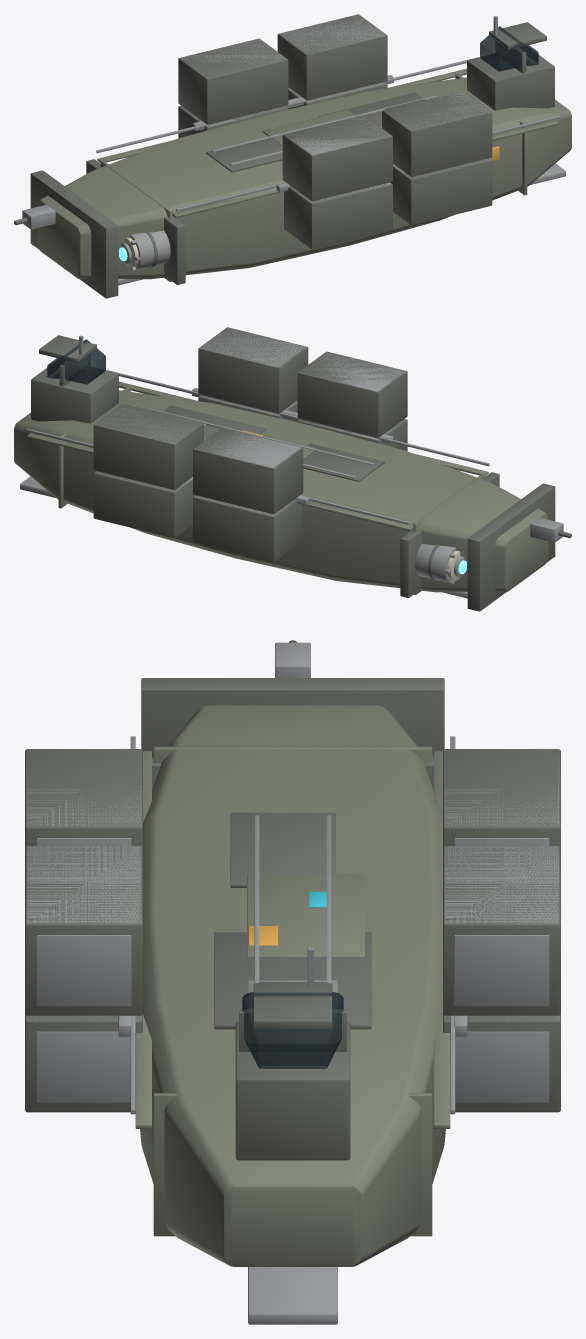
The model's file is mule_production_v1_lod1.glb.
The picture shows the model from 3 angles, top to bottom: view 1: azimuth 30°, elevation 25°; view 2: azimuth 150°, elevation 25°; view 3: azimuth 270°, elevation 25°; orthographic projection. The views are drawn at different scales.
Visible parts, largest first — view 1: LOD1_Armor, LOD1_Hull, LOD1_Mechanical, LOD1_Canopy; view 2: LOD1_Armor, LOD1_Hull, LOD1_Mechanical, LOD1_Canopy; view 3: LOD1_Hull, LOD1_Armor, LOD1_Mechanical, LOD1_Canopy.
Boxes of the visible parts, bbox=[...] form: LOD1_Armor: bbox=[14, 14, 554, 298]; LOD1_Hull: bbox=[37, 68, 571, 281]; LOD1_Mechanical: bbox=[22, 14, 565, 285]; LOD1_Canopy: bbox=[480, 26, 538, 71]; LOD1_Armor: bbox=[31, 327, 571, 611]; LOD1_Hull: bbox=[14, 381, 548, 594]; LOD1_Mechanical: bbox=[20, 327, 563, 598]; LOD1_Canopy: bbox=[47, 339, 105, 384]; LOD1_Hull: bbox=[135, 705, 450, 1266]; LOD1_Armor: bbox=[25, 640, 560, 1160]; LOD1_Mechanical: bbox=[27, 642, 558, 1324]; LOD1_Canopy: bbox=[242, 991, 343, 1068].
Size of what is drawn, in the model's own units: 15.23 by 4.36 by 6.54.
